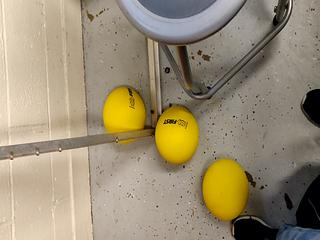power_cell: (91, 82, 149, 153), (144, 99, 201, 170), (196, 153, 253, 224)
